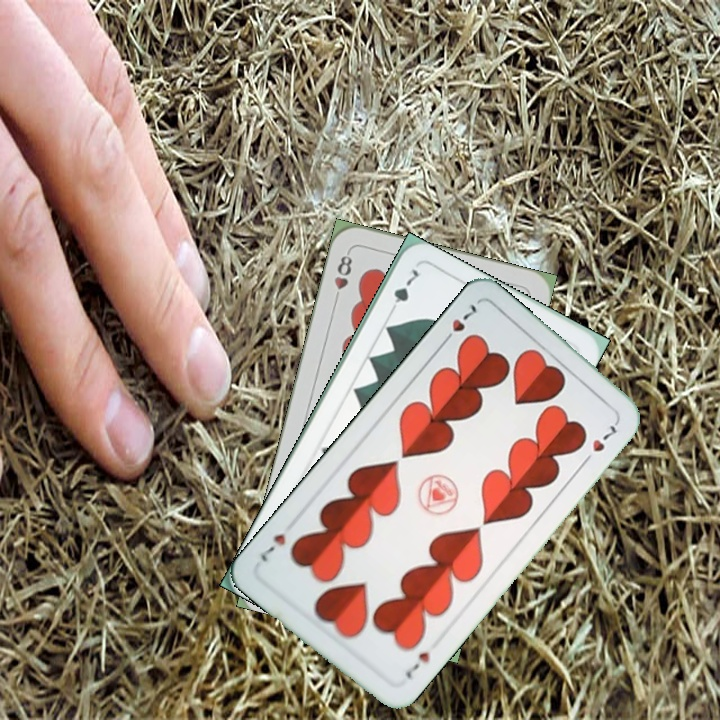G7: (385, 264, 421, 318)
H7: (437, 299, 480, 348), (399, 647, 433, 682)
H8: (330, 247, 355, 305)
